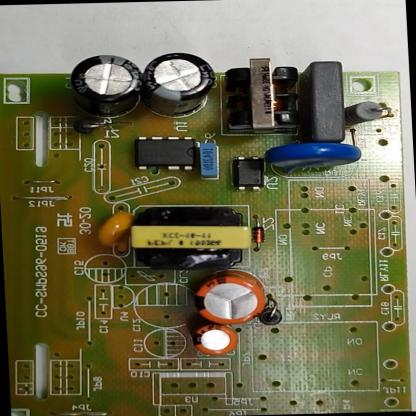Cap1: (180, 268, 275, 329)
Cap2: (184, 318, 248, 362)
Cap3: (128, 45, 223, 121)
Cap4: (64, 51, 152, 120)
MOSFET: (129, 134, 202, 176)
Mov: (260, 136, 370, 178)
Resistor: (336, 97, 392, 128)
Transformer: (119, 201, 260, 274), (215, 51, 314, 133)
